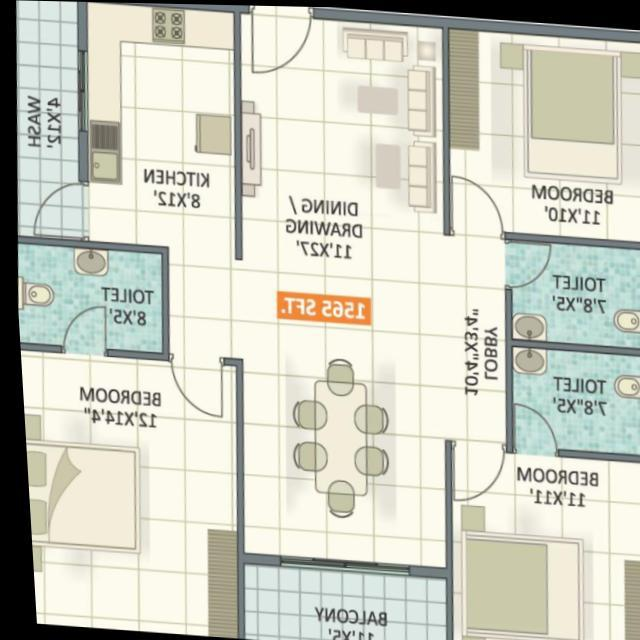Balcony-Sitout: (231, 550, 446, 640)
Bedroom: (440, 16, 640, 247), (441, 440, 640, 640)
Bedroom with Toilet: (15, 235, 242, 638)
Dining: (285, 350, 385, 532)
Kitchen: (79, 1, 239, 262)
Living: (235, 4, 451, 231)
Toilet: (15, 236, 163, 360), (498, 333, 640, 457), (499, 228, 640, 351)
Utility: (15, 0, 87, 249)
